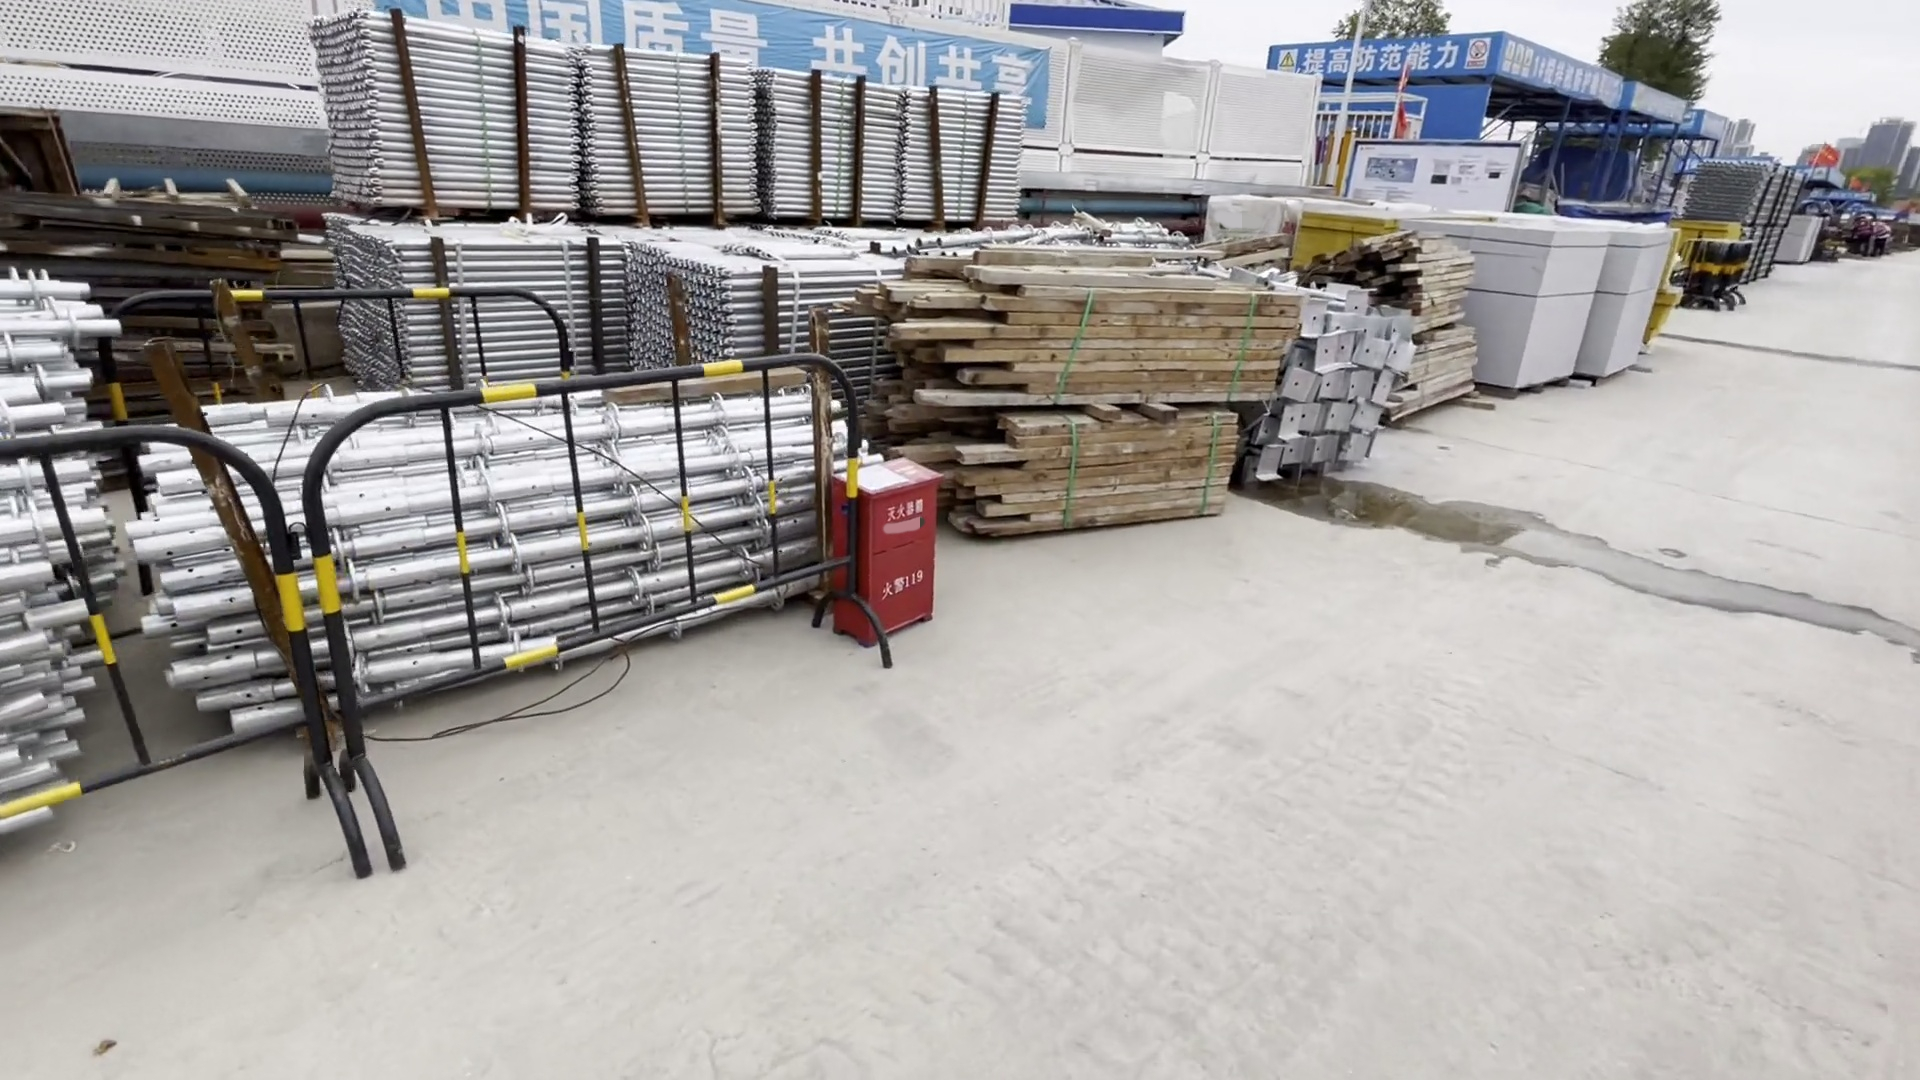brick: (1429, 211, 1672, 397), (1764, 212, 1825, 265)
scaffold: (1, 371, 800, 754), (305, 12, 1036, 225), (318, 218, 895, 375)
slogan: (378, 1, 1067, 138), (1313, 41, 1506, 90), (1274, 47, 1305, 79)
wood: (891, 251, 1240, 508), (1370, 248, 1480, 419)
